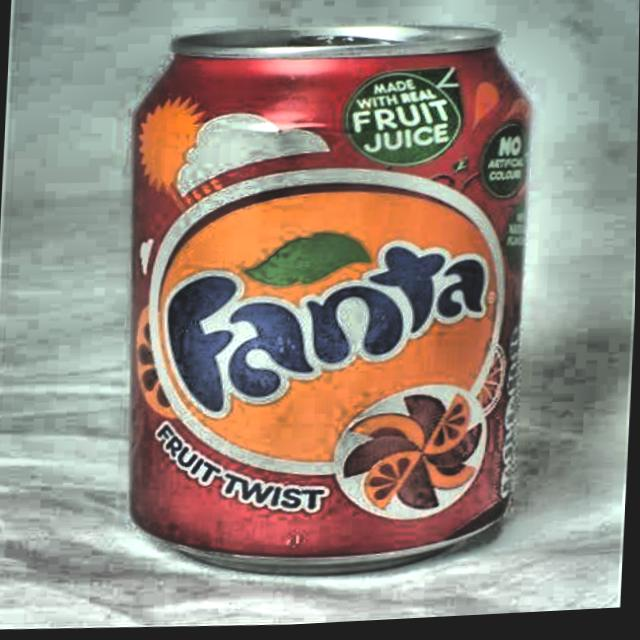Cans: (102, 11, 556, 598)
